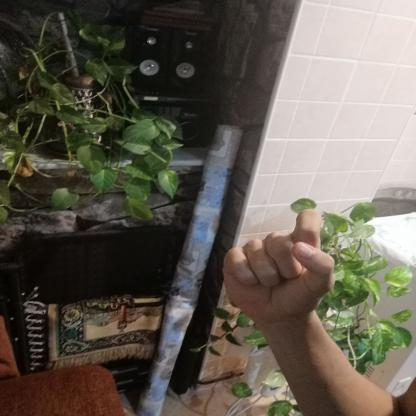FAA: (206, 200, 355, 330)
